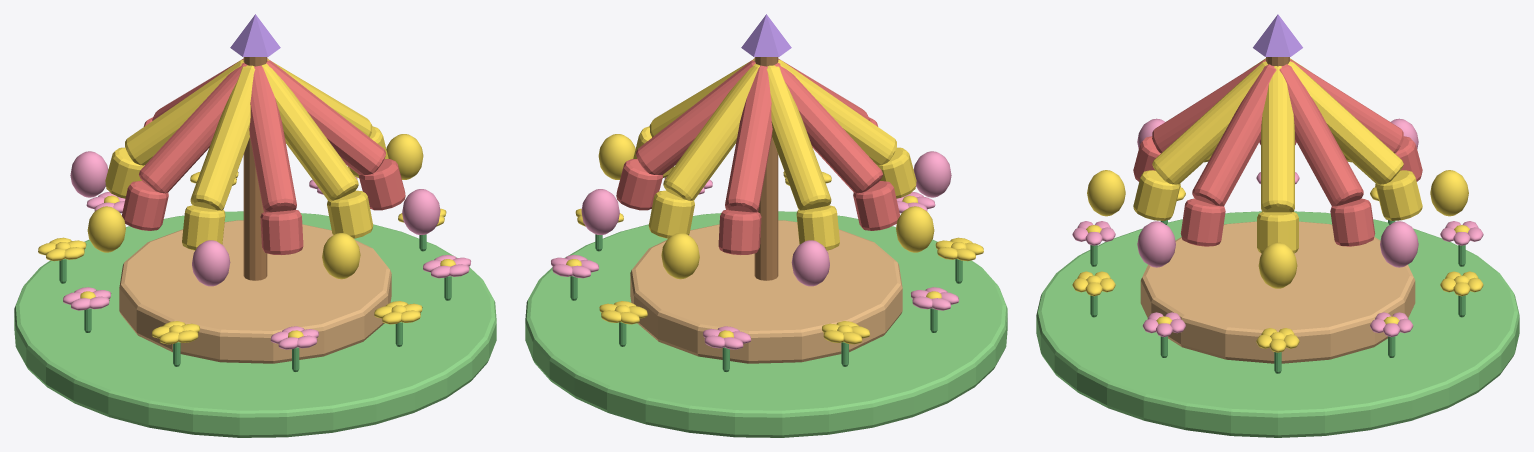
The model's file is region_festival.glb.
The picture shows the model from 3 angles, left to right: view 1: azimuth 30°, elevation 25°; view 2: azimuth 150°, elevation 25°; view 3: azimuth 270°, elevation 25°; orthographic projection.
Parts seen in each view (by area): view 1: round grassy plot, festival stage, striped tent roof rib.006, striped tent roof rib.007, striped tent roof rib.008, striped tent roof rib.005, striped tent roof rib.009, festival mast, striped tent roof rib.004, canvas stripe.008, canvas stripe.006, canvas stripe.009 (+11 smaller); view 2: round grassy plot, festival stage, striped tent roof rib.004, striped tent roof rib.003, striped tent roof rib.002, striped tent roof rib.005, striped tent roof rib.001, festival mast, striped tent roof rib.006, canvas stripe.004, canvas stripe.006, canvas stripe.003 (+11 smaller); view 3: round grassy plot, festival stage, striped tent roof rib.001, striped tent roof rib.009, striped tent roof rib, striped tent roof rib.002, striped tent roof rib.008, canvas stripe.002, canvas stripe, striped tent roof rib.003, striped tent roof rib.007, canvas stripe.003 (+10 smaller).
Boxes of the visible parts, box(x1,y1,x2,y2) form: round grassy plot: box(14, 211, 496, 437); festival stage: box(119, 220, 391, 363); striped tent roof rib.006: box(190, 65, 255, 210); striped tent roof rib.007: box(249, 65, 296, 212); striped tent roof rib.008: box(261, 63, 358, 200); striped tent roof rib.005: box(139, 63, 247, 193); striped tent roof rib.009: box(266, 60, 385, 174); festival mast: box(243, 57, 267, 280); striped tent roof rib.004: box(125, 59, 243, 165); canvas stripe.008: box(260, 209, 303, 254); canvas stripe.006: box(122, 181, 168, 230); canvas stripe.009: box(327, 190, 373, 238); round grassy plot: box(525, 211, 1007, 437); festival stage: box(630, 220, 902, 363); striped tent roof rib.004: box(766, 65, 831, 210); striped tent roof rib.003: box(725, 65, 772, 212); striped tent roof rib.002: box(663, 63, 760, 200); striped tent roof rib.005: box(774, 63, 882, 193); striped tent roof rib.001: box(636, 60, 755, 174); festival mast: box(754, 57, 778, 280); striped tent roof rib.006: box(778, 59, 896, 165); canvas stripe.004: box(718, 209, 761, 254); canvas stripe.006: box(853, 181, 899, 230); canvas stripe.003: box(648, 190, 694, 238); round grassy plot: box(1036, 211, 1519, 437); festival stage: box(1140, 221, 1415, 363); striped tent roof rib.001: box(1279, 64, 1363, 206); striped tent roof rib.009: box(1192, 64, 1276, 206); striped tent roof rib: box(1261, 66, 1294, 212); striped tent roof rib.002: box(1288, 61, 1403, 184); striped tent roof rib.008: box(1152, 61, 1267, 184); canvas stripe.002: box(1330, 198, 1375, 246); canvas stripe: box(1180, 198, 1225, 246); striped tent roof rib.003: box(1290, 59, 1403, 153); striped tent roof rib.007: box(1152, 59, 1265, 153); canvas stripe.003: box(1375, 170, 1422, 220).
Bounding box in the file's own units: 3.24 × 2.39 × 3.24.
